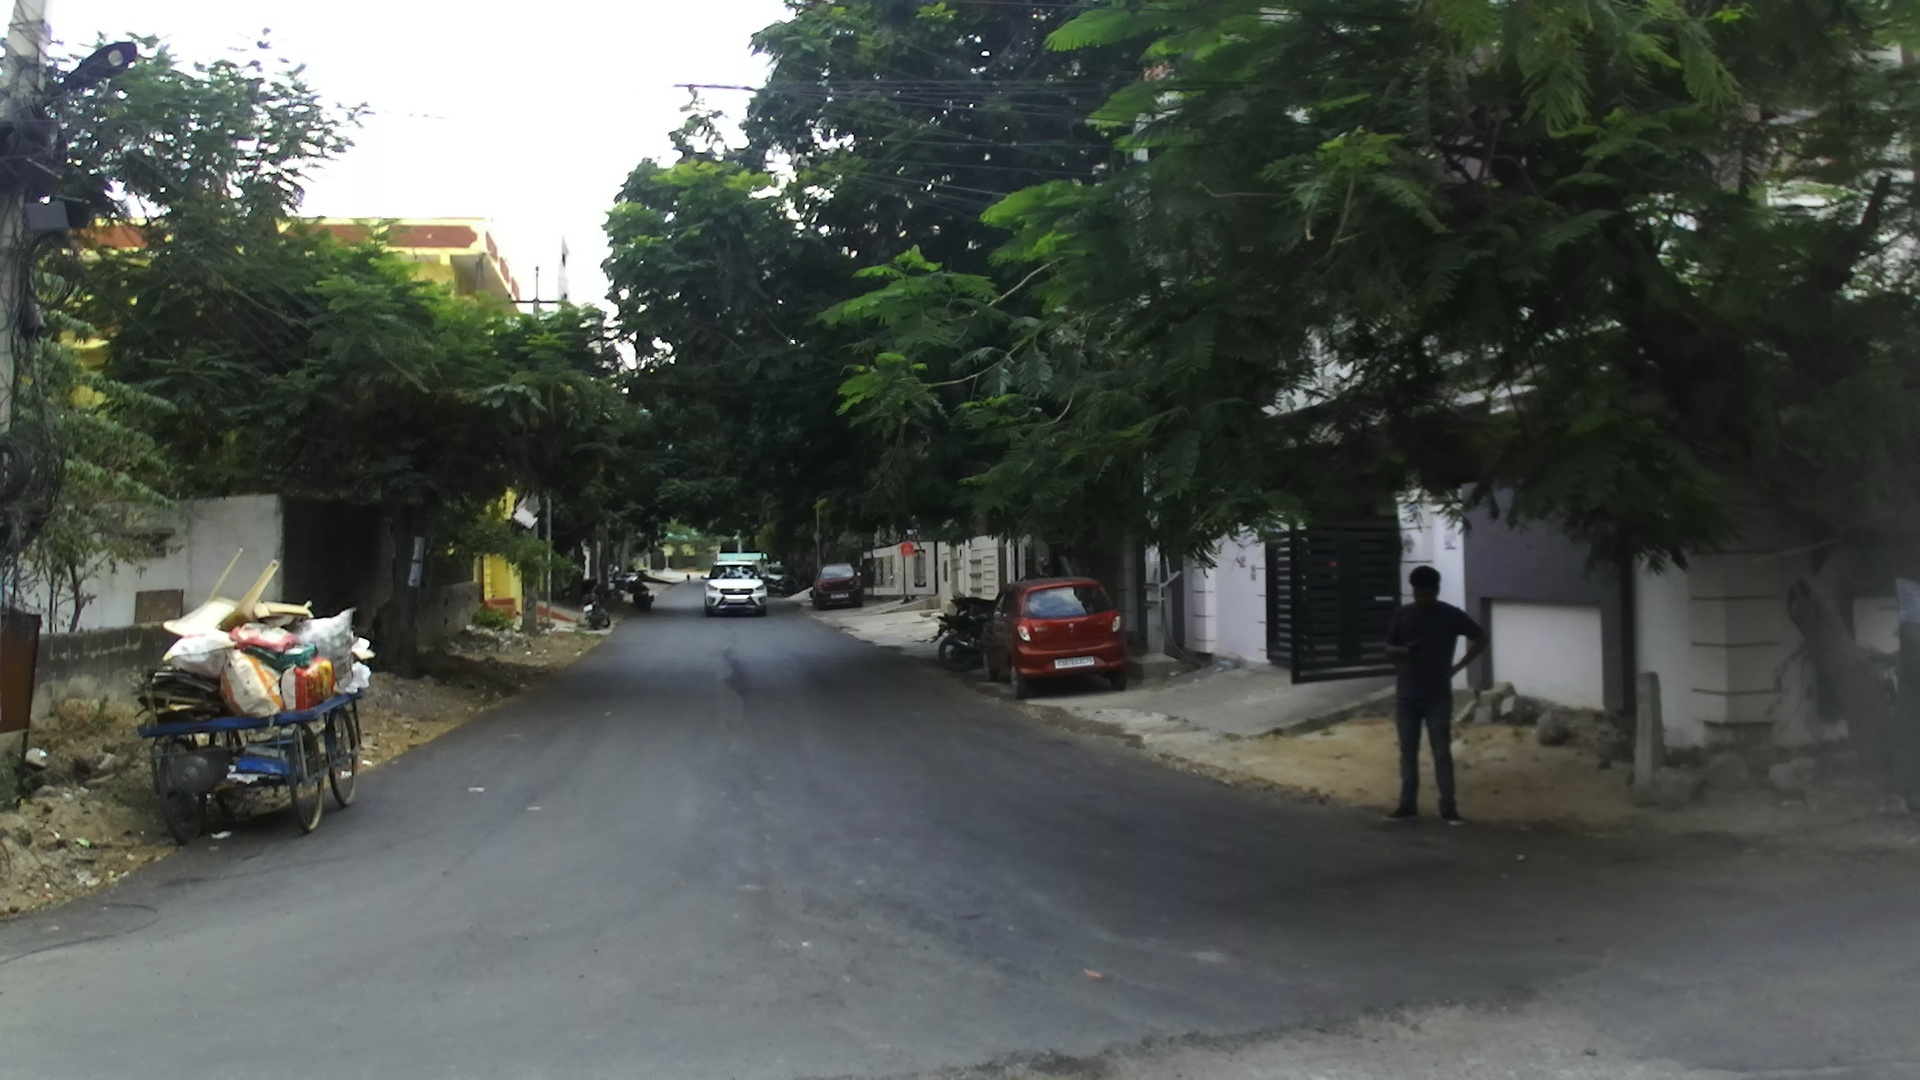vehicle: (138, 596, 375, 843), (975, 576, 1134, 691), (703, 559, 769, 616), (812, 564, 862, 608)
